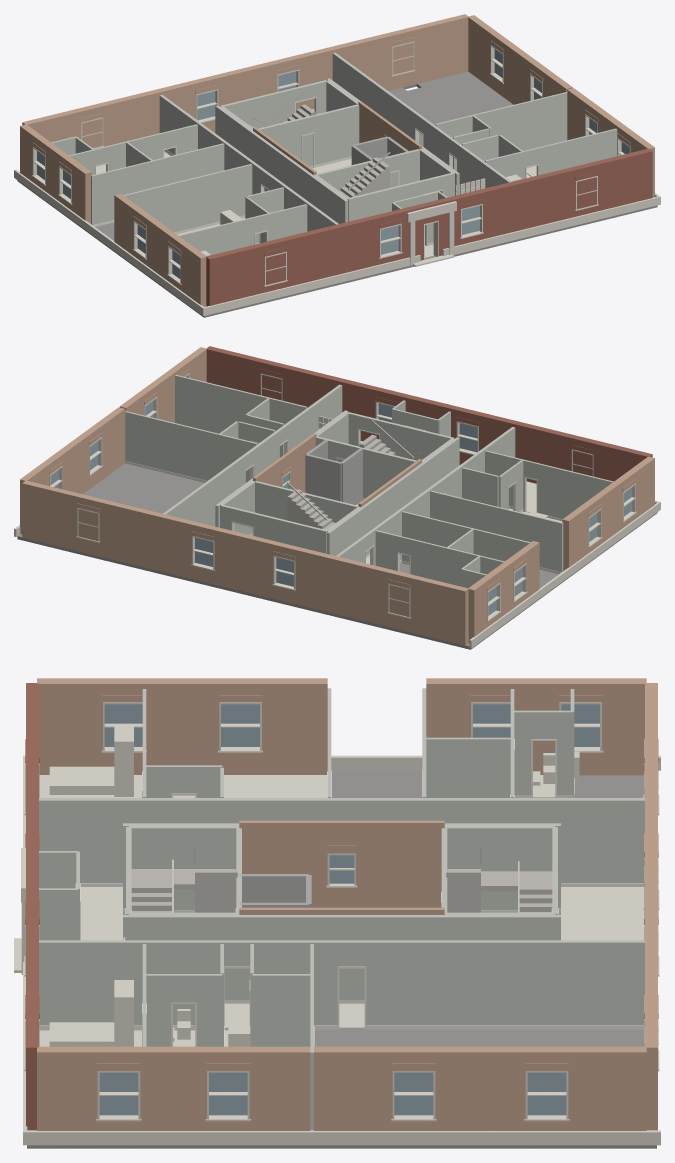
Rendered from floor_01.glb.
The picture shows the model from 3 angles, top to bottom: view 1: azimuth 30°, elevation 25°; view 2: azimuth 150°, elevation 25°; view 3: azimuth 270°, elevation 25°; orthographic projection. The views are drawn at different scales.
Parts seen in each view (by area): view 1: F01_walls-col, F01_walls_cbrick-col, F01_walls_fbrick-col, F01_furniture-col, F01_slabs-col, F01_stone_trim-col, F01_glazing-col, F01_stairs, F01_trim, F01_walls_conc-col; view 2: F01_walls-col, F01_walls_cbrick-col, F01_walls_fbrick-col, F01_slabs-col, F01_stone_trim-col, F01_walls_conc-col, F01_glazing-col, F01_furniture-col, F01_stairs, F01_trim; view 3: F01_walls-col, F01_walls_cbrick-col, F01_furniture-col, F01_slabs-col, F01_glazing-col, F01_stairs, F01_stone_trim-col, F01_walls_fbrick-col, F01_trim, F01_walls_conc-col.
Boxes of the visible parts, x1,y1,x2,y2 form: F01_walls-col: [51, 52, 617, 255]; F01_walls_cbrick-col: [20, 14, 654, 306]; F01_walls_fbrick-col: [206, 148, 652, 306]; F01_furniture-col: [14, 109, 660, 315]; F01_slabs-col: [17, 71, 657, 317]; F01_stone_trim-col: [32, 41, 630, 286]; F01_glazing-col: [37, 49, 629, 278]; F01_stairs: [249, 90, 390, 197]; F01_trim: [92, 97, 538, 245]; F01_walls_conc-col: [351, 136, 409, 164]; F01_walls-col: [125, 374, 613, 588]; F01_walls_cbrick-col: [20, 347, 654, 645]; F01_walls_fbrick-col: [206, 346, 652, 483]; F01_slabs-col: [17, 463, 657, 649]; F01_stone_trim-col: [49, 373, 636, 621]; F01_walls_conc-col: [305, 440, 362, 504]; F01_glazing-col: [50, 401, 631, 615]; F01_furniture-col: [14, 416, 660, 647]; F01_stairs: [287, 420, 420, 529]; F01_trim: [125, 425, 562, 574]; F01_walls-col: [39, 688, 644, 1130]; F01_walls_cbrick-col: [37, 678, 658, 1130]; F01_furniture-col: [14, 724, 660, 1145]; F01_slabs-col: [27, 770, 656, 1148]; F01_glazing-col: [99, 704, 599, 1115]; F01_stairs: [131, 848, 552, 912]; F01_stone_trim-col: [24, 702, 659, 1121]; F01_walls_fbrick-col: [25, 683, 39, 1130]; F01_trim: [39, 739, 644, 1046]; F01_walls_conc-col: [239, 874, 311, 907].
Size of what is drawn, in the model's own units: 28.2 by 4.24 by 20.48.
